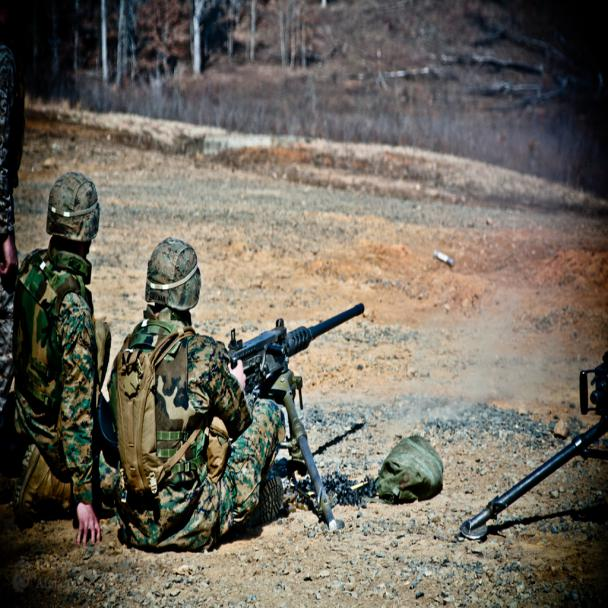Gun: (237, 284, 373, 394)
Hand: (61, 487, 114, 581)
